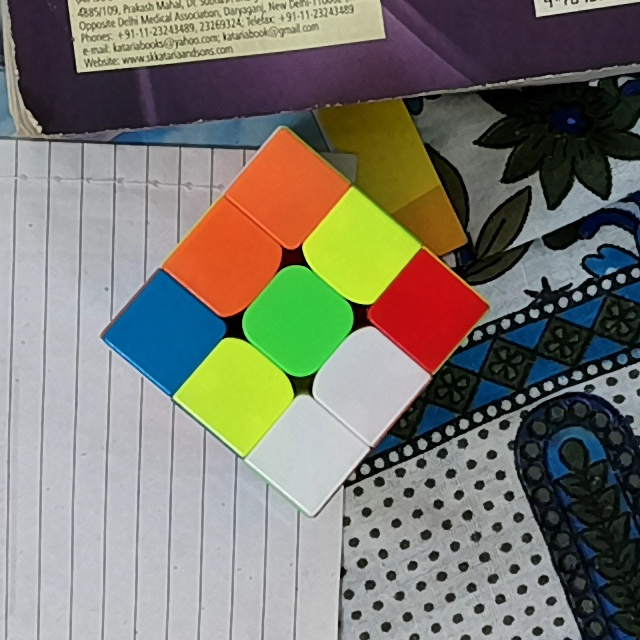tile: (195, 225, 261, 290), (137, 300, 201, 366), (267, 288, 330, 354), (327, 217, 390, 282), (255, 160, 319, 223), (207, 362, 270, 425), (397, 278, 459, 341), (336, 350, 400, 411), (276, 424, 338, 483)
